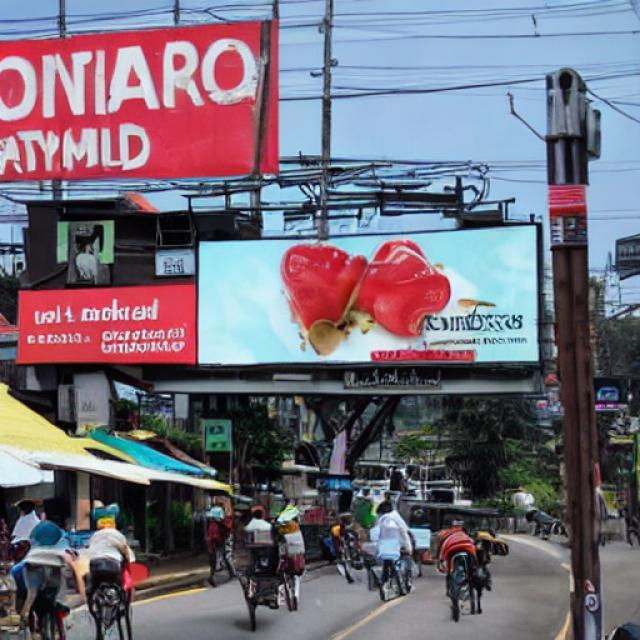Billboard: (192, 221, 542, 373), (0, 16, 285, 180), (13, 279, 195, 366)
